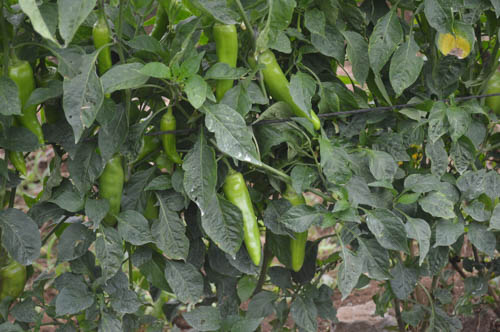ChiliPepper: (254, 55, 321, 129), (225, 170, 264, 268), (10, 63, 45, 139), (281, 193, 312, 270), (211, 25, 241, 101), (92, 157, 124, 223), (87, 21, 114, 73), (159, 115, 182, 158), (5, 260, 24, 295)
